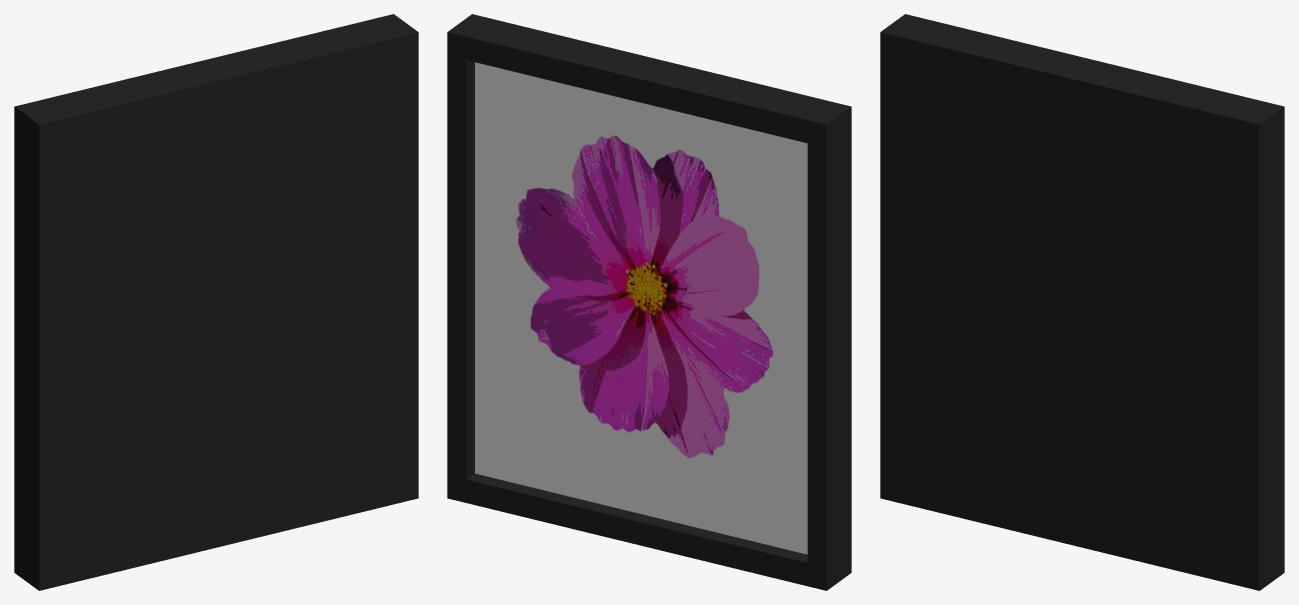
The model's file is cuadro.fbx.
The picture shows the model from 3 angles, left to right: view 1: azimuth 30°, elevation 25°; view 2: azimuth 150°, elevation 25°; view 3: azimuth 330°, elevation 25°; orthographic projection.
Parts seen in each view (by area): view 1: polySurface4; view 2: polySurface5, polySurface4; view 3: polySurface4.
Boxes of the visible parts, x1,y1,x2,y2 form: polySurface4: (14, 14, 418, 590); polySurface5: (475, 62, 807, 554); polySurface4: (447, 14, 851, 590); polySurface4: (880, 14, 1284, 590).
Bounding box in the file's own units: 47.78 × 56.12 × 5.4.
